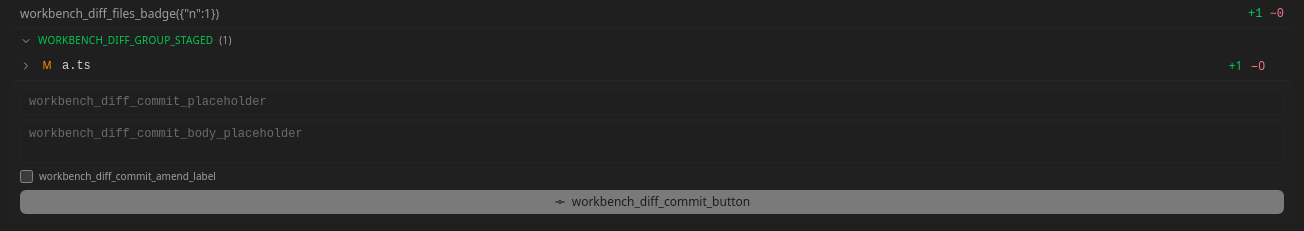
ChangesView › botão de commit fica desabilitado com mensagem vazia e habilita ao digitar
This screenshot has width=1304, height=231.
Expected: the button "workbench_diff_commit_button" is disabled, [20, 190, 1284, 214]
Type "fix: bug" into the field with placeholder "workbench_diff_commit_placeholder". click: {"x": 652, "y": 102}
box: [20, 89, 1284, 115]
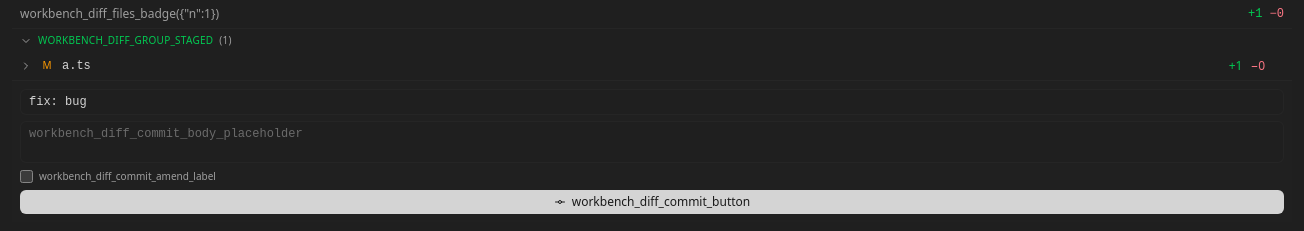
Now the button "workbench_diff_commit_button" is enabled, box [20, 190, 1284, 214]
